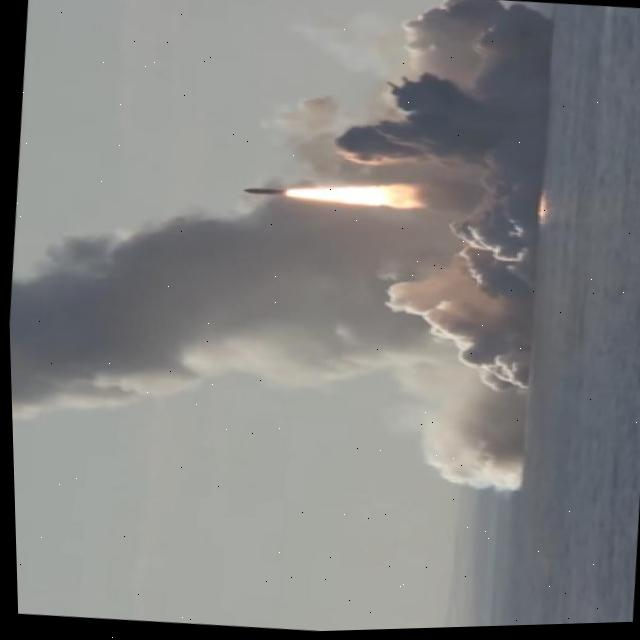missile: (239, 180, 289, 205)
